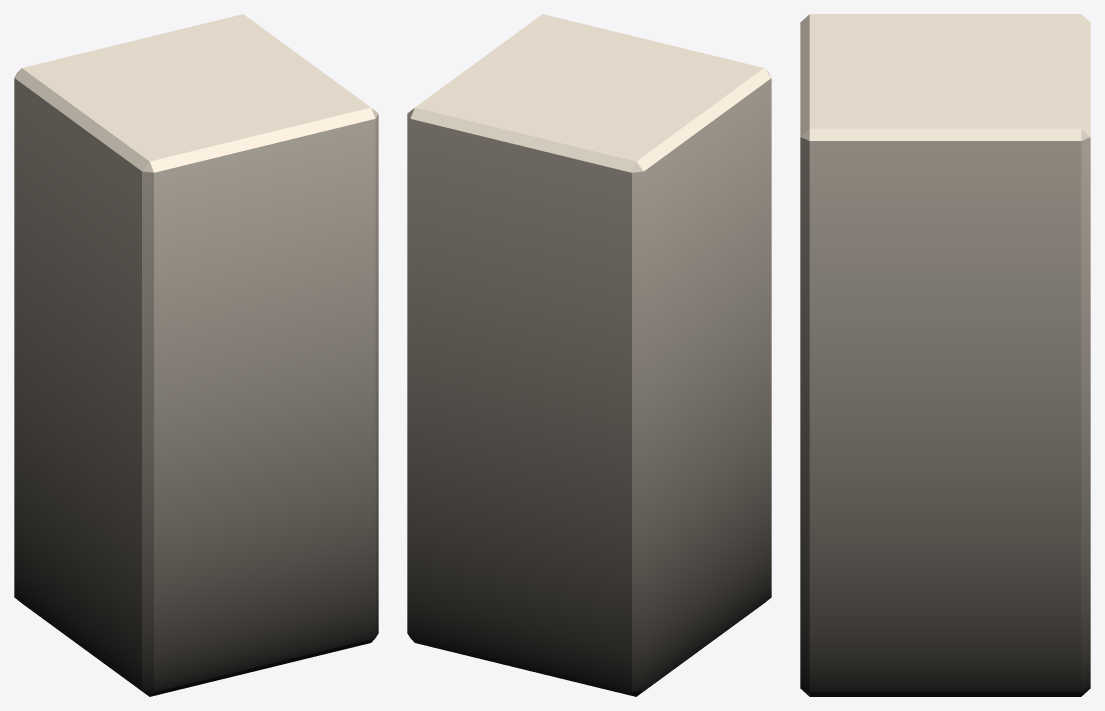
File: SM_VKI_Post_Timber_Corner_Cut.fbx
The picture shows the model from 3 angles, left to right: view 1: azimuth 30°, elevation 25°; view 2: azimuth 150°, elevation 25°; view 3: azimuth 270°, elevation 25°; orthographic projection. The views are drawn at different scales.
Parts seen in each view (by area): view 1: SM_VKI_Post_Timber_Corner_Cut.001; view 2: SM_VKI_Post_Timber_Corner_Cut.001; view 3: SM_VKI_Post_Timber_Corner_Cut.001.
Part boxes in pixels (<box>): SM_VKI_Post_Timber_Corner_Cut.001: <box>14,14,378,696</box>; SM_VKI_Post_Timber_Corner_Cut.001: <box>407,14,771,696</box>; SM_VKI_Post_Timber_Corner_Cut.001: <box>800,14,1090,696</box>.
Size of the model in its own units: 0.62 by 1.34 by 0.62.
